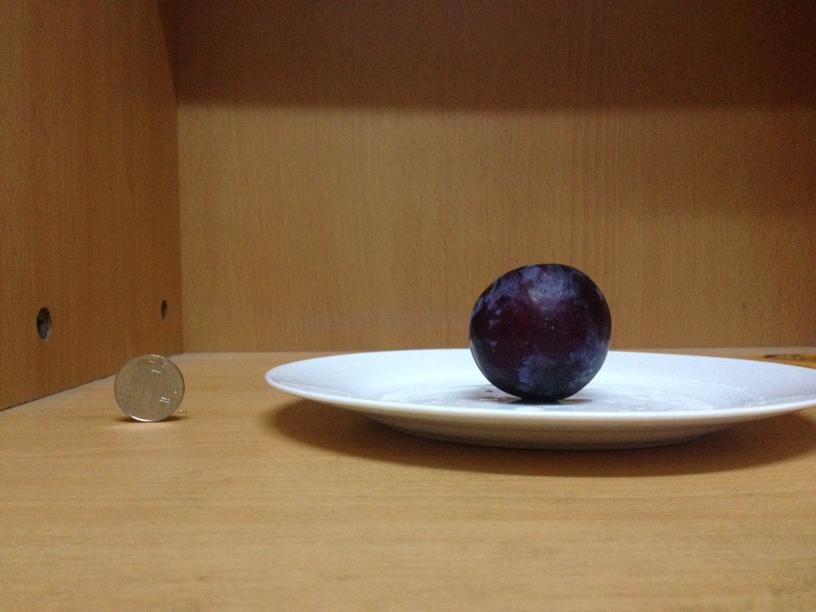coin: (109, 353, 187, 424)
plum: (472, 259, 611, 400)
